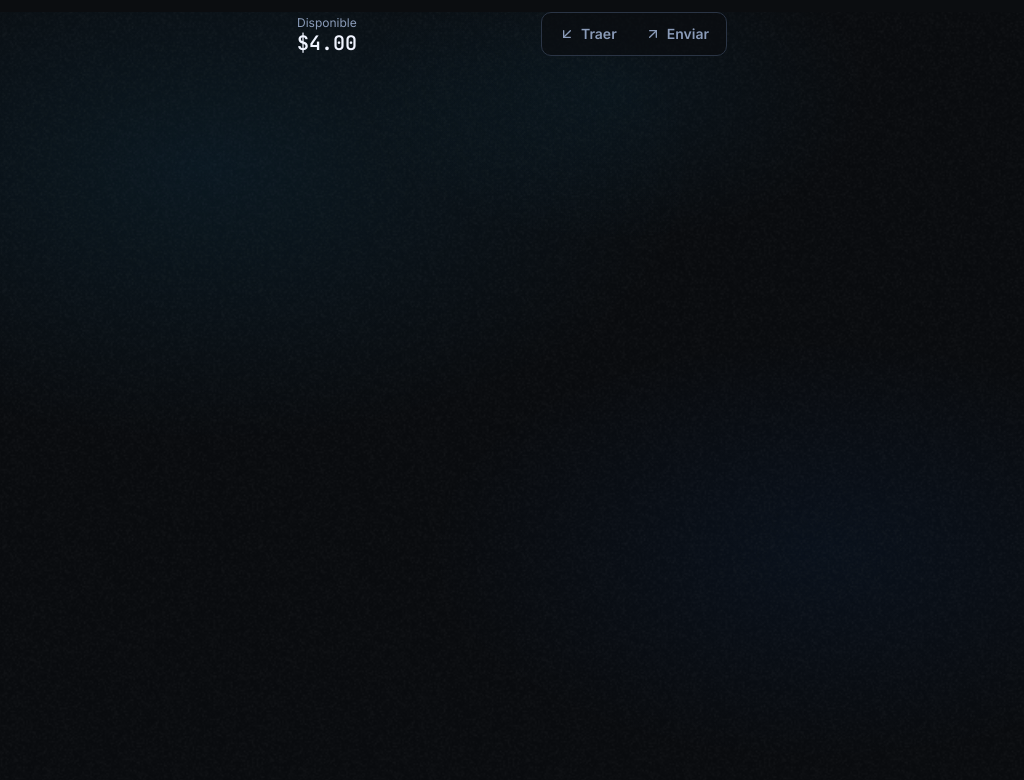
Test: LemonAccount › Traer opens the inbound panel with its own CTA
Press the mouse on the tab "Traer" at (588, 34), box [546,16,630,52]
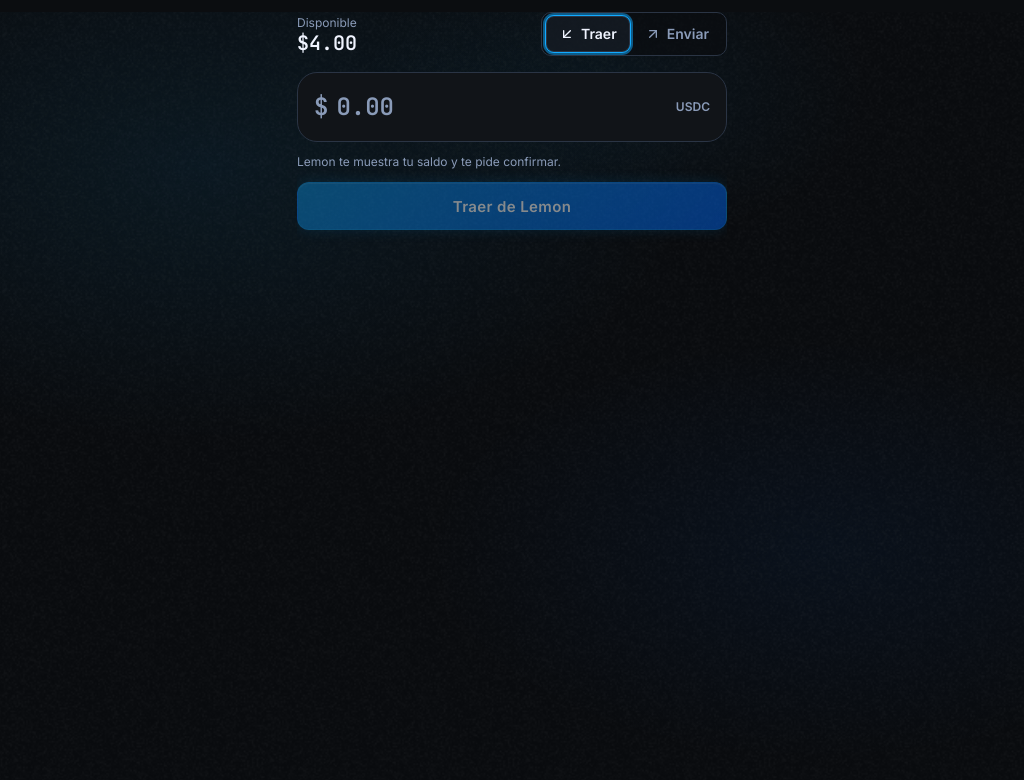
expect the field is shown: met, box [336,85,668,129]
expect the button "Traer de Lemon" is disabled: met, box [297,182,727,230]
